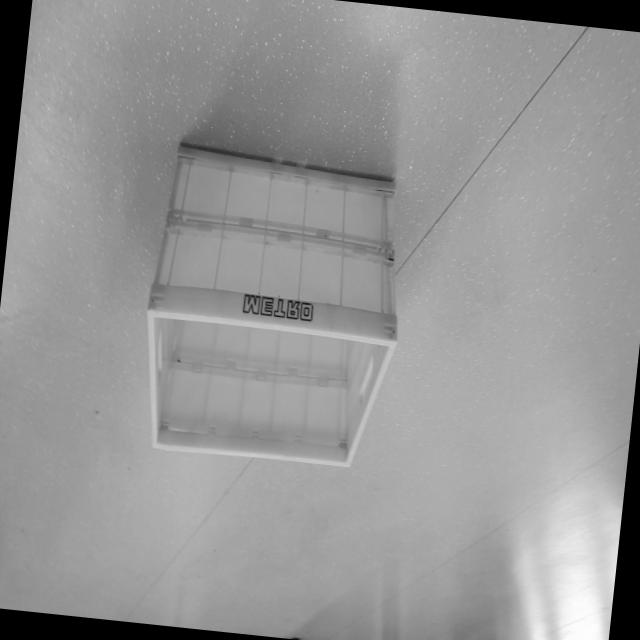box: (125, 106, 424, 493)
